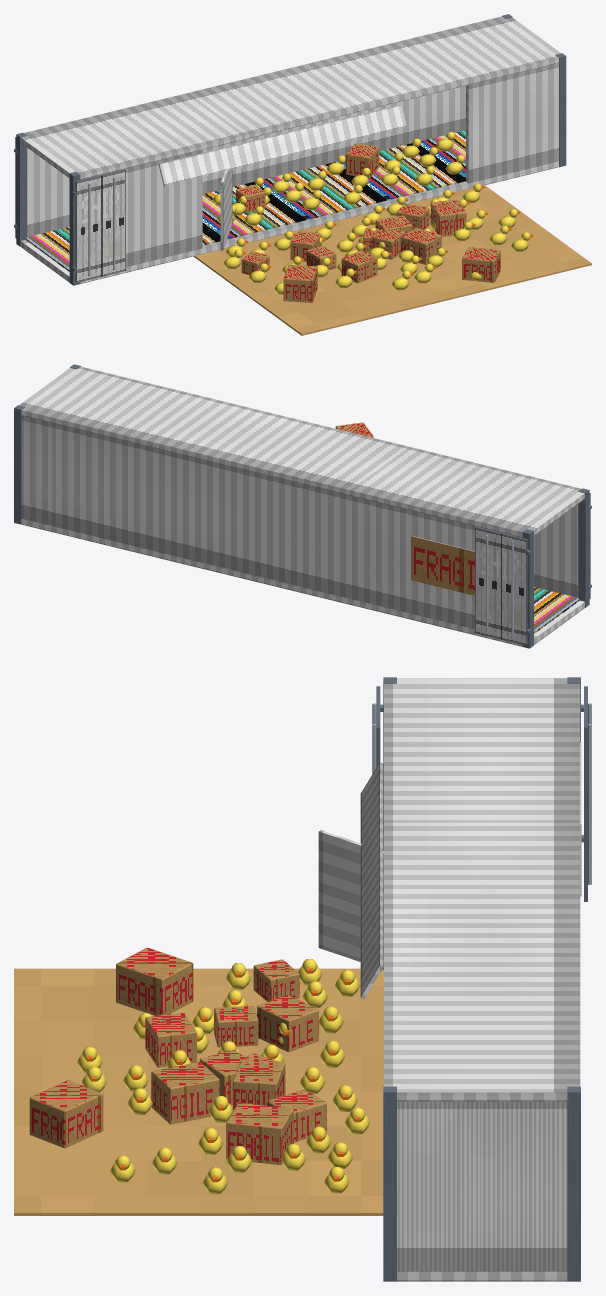
The model's file is p_wreck_burst.glb.
3 renders of one model, top to bottom at view 1: azimuth 30°, elevation 25°; view 2: azimuth 150°, elevation 25°; view 3: azimuth 270°, elevation 25°, orthographic. The views are drawn at different scales.
Visible parts, largest first — view 1: p_wreck_burst_lod0; view 2: p_wreck_burst_lod0; view 3: p_wreck_burst_lod0.
Boxes of the visible parts, bbox=[...] form: p_wreck_burst_lod0: bbox=[14, 14, 591, 335]; p_wreck_burst_lod0: bbox=[14, 364, 591, 648]; p_wreck_burst_lod0: bbox=[14, 677, 591, 1281].
Size of what is drawn, in the model's own units: 12.22 by 2.63 by 7.18.
2 materials, 2 textured.
